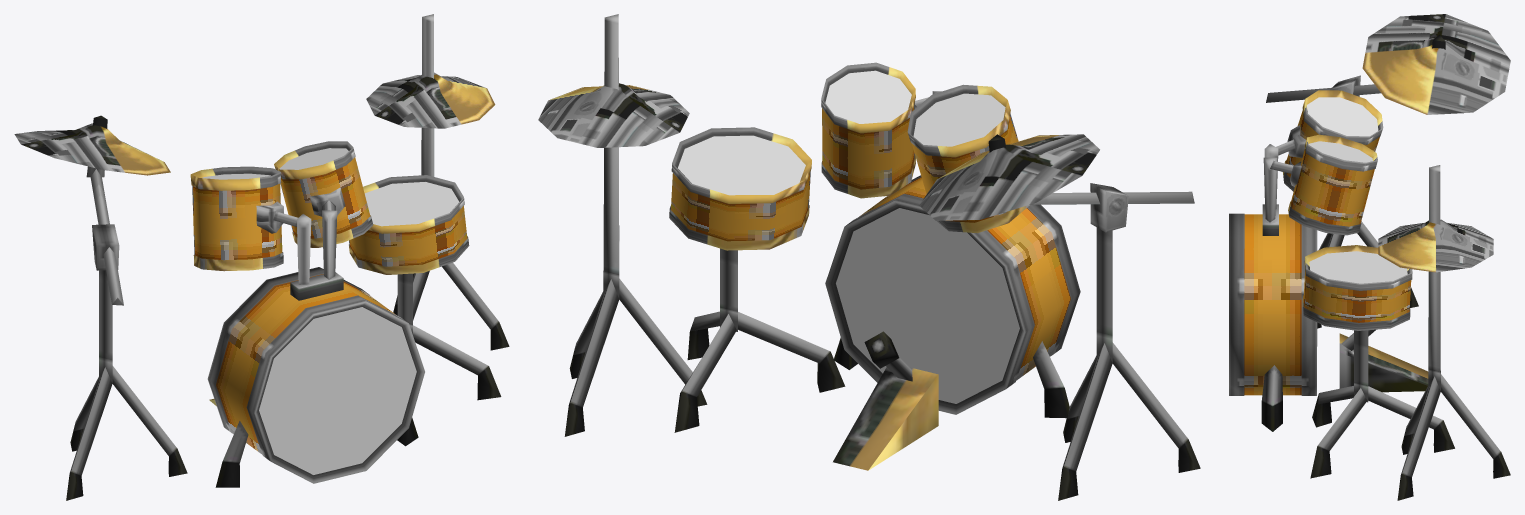
Rendered from rmk_oth_drum.dae.
3 renders of one model, left to right at view 1: azimuth 30°, elevation 25°; view 2: azimuth 150°, elevation 25°; view 3: azimuth 270°, elevation 25°, orthographic. The views are drawn at different scales.
Visible parts, largest first — view 1: rmk_oth_drum; view 2: rmk_oth_drum; view 3: rmk_oth_drum.
Part boxes in pixels (x1=…): rmk_oth_drum: x1=14, y1=14, x2=509, y2=500; rmk_oth_drum: x1=538, y1=14, x2=1200, y2=500; rmk_oth_drum: x1=1229, y1=14, x2=1510, y2=500.
Size of the model in its own units: 58.16 by 37.65 by 31.03.
Materials: 3 (3 with a texture image).
